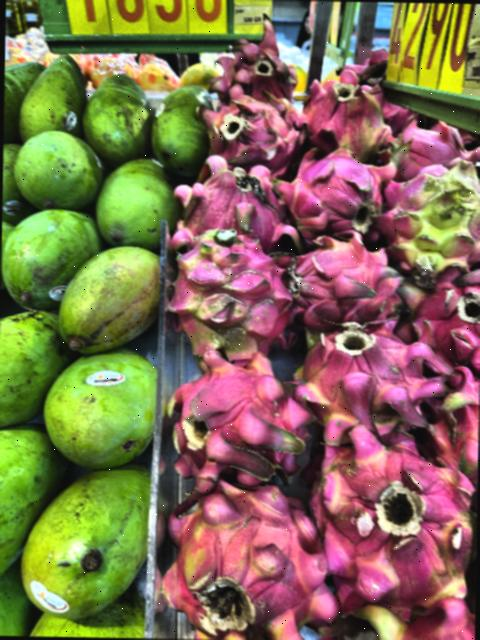buah-naga-belum-matang: (315, 426, 478, 612), (158, 479, 337, 640), (174, 230, 287, 366), (296, 326, 428, 440), (387, 156, 480, 273), (300, 74, 394, 160)
buah-naga-matang: (168, 359, 307, 477), (170, 162, 296, 250), (292, 235, 405, 323), (401, 261, 480, 372), (194, 90, 300, 172), (284, 150, 380, 240), (213, 24, 302, 101), (424, 353, 479, 468), (384, 112, 460, 168)
